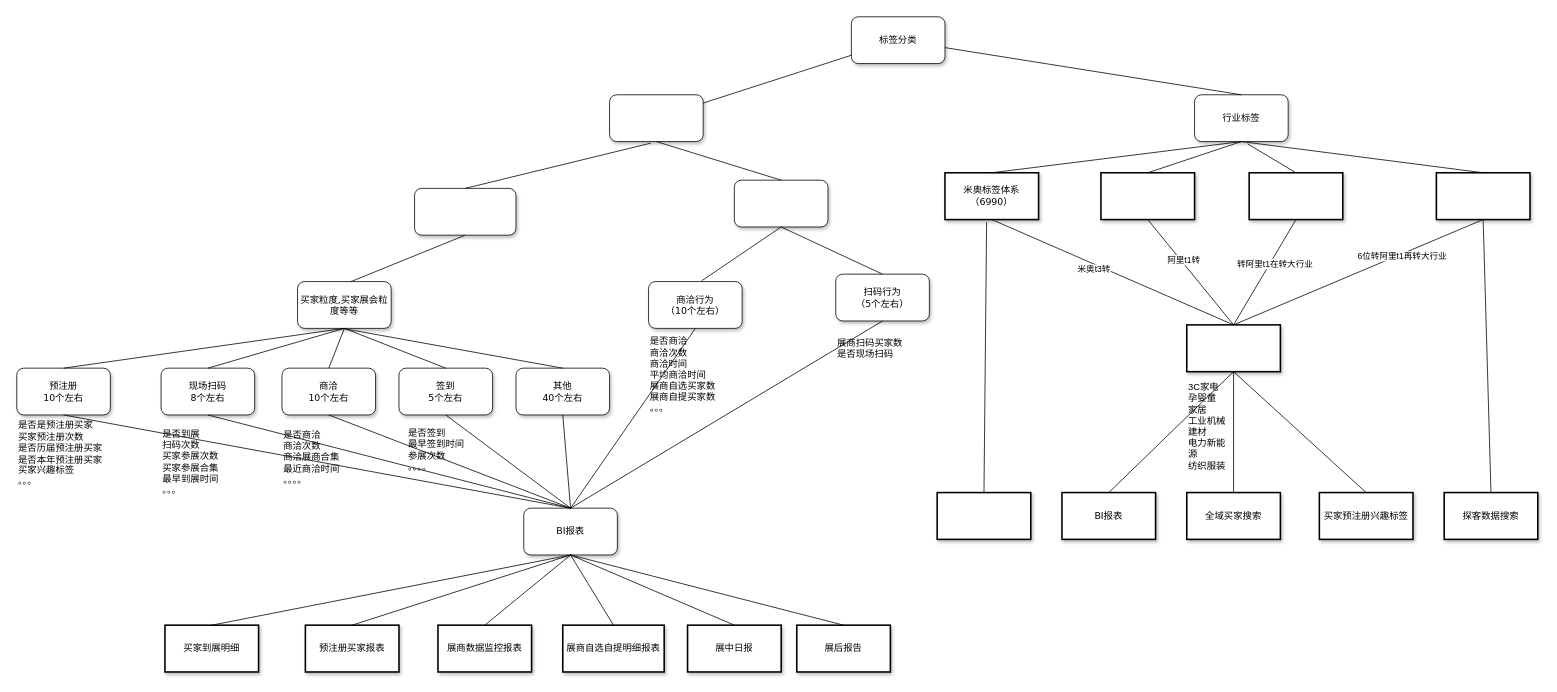
This 1557x692 diagram has some shape labels left out. Here are the shapes that lost their labels. From the top down, the centre of each, then its label:
At point (657, 119): "行为标签".
At point (466, 212): "买家行为".
At point (781, 204): "展商行为".
At point (1148, 196): "阿里标签 体系 （5243个）".
At point (1296, 196): "naics标签体系 （1057）".
At point (1483, 196): "hscode标签 体系6位 (6554)".
At point (1233, 349): "大行业标签体系".
At point (984, 516): "买家匹配推荐".
